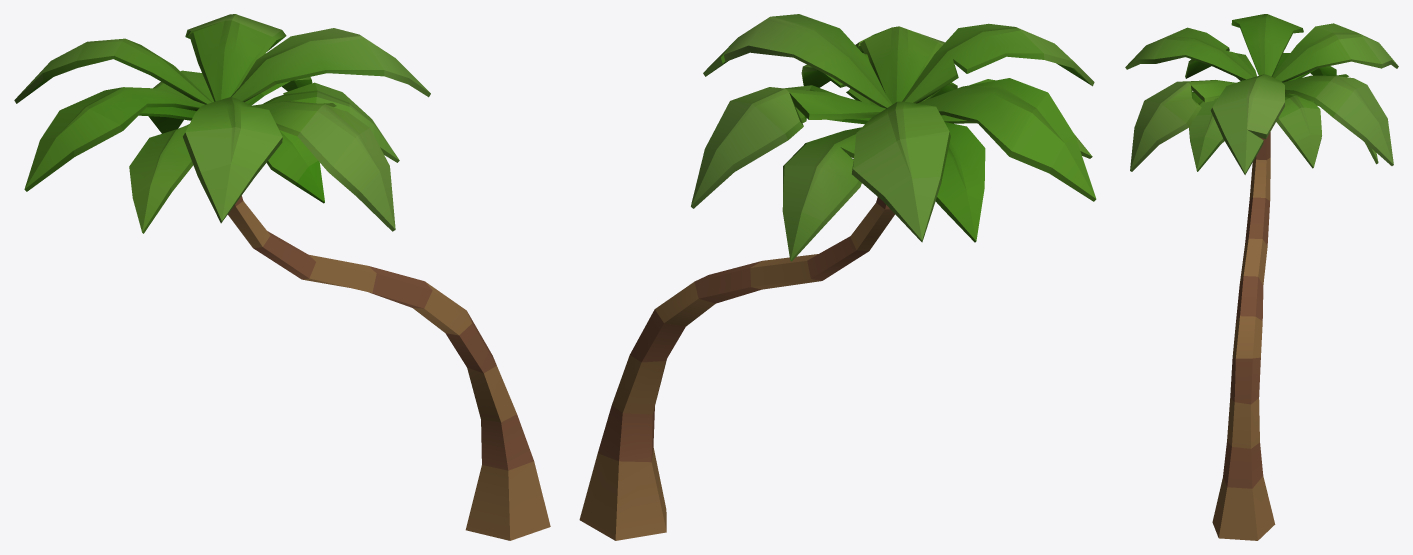
The model's file is Anim_PalmTree_Bent.fbx.
3 renders of one model, left to right at view 1: azimuth 30°, elevation 25°; view 2: azimuth 150°, elevation 25°; view 3: azimuth 270°, elevation 25°, orthographic. The views are drawn at different scales.
Parts seen in each view (by area): view 1: Anim_PalmTree_Bent; view 2: Anim_PalmTree_Bent; view 3: Anim_PalmTree_Bent.
Part boxes in pixels (x1,y1,x2,y2): Anim_PalmTree_Bent: (14,14,550,540); Anim_PalmTree_Bent: (579,14,1096,540); Anim_PalmTree_Bent: (1125,14,1398,540).
Bounding box in the file's own units: 5.57 × 5.54 × 3.59.
